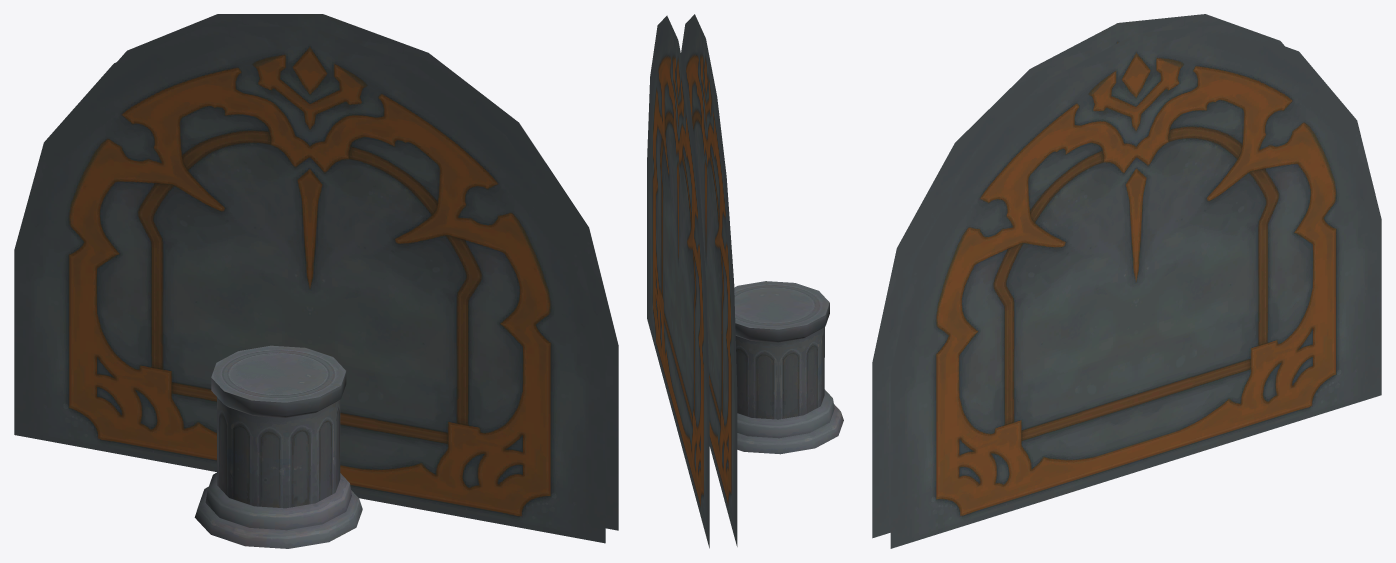
The model's file is Indoor_Mdprops_Church_Squate05_Vo_1464_0.fbx.
3 views of the same model, side by side, from view 1: azimuth 30°, elevation 25°; view 2: azimuth 150°, elevation 25°; view 3: azimuth 270°, elevation 25° (orthographic). The views are drawn at different scales.
Parts seen in each view (by area): view 1: Indoor_Mdprops_Church_Squate05_Vo_1464_0; view 2: Indoor_Mdprops_Church_Squate05_Vo_1464_0; view 3: Indoor_Mdprops_Church_Squate05_Vo_1464_0.
Part boxes in pixels (x1,y1,x2,y2): Indoor_Mdprops_Church_Squate05_Vo_1464_0: [14, 14, 618, 548]; Indoor_Mdprops_Church_Squate05_Vo_1464_0: [647, 14, 843, 548]; Indoor_Mdprops_Church_Squate05_Vo_1464_0: [872, 14, 1381, 548].
Size of the model in its own units: 2.01 by 2.5 by 2.63.
